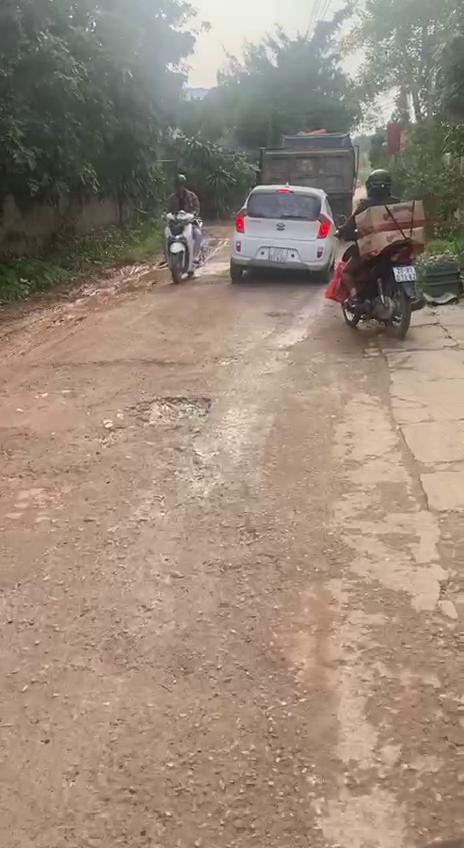pothole: (134, 389, 222, 434)
